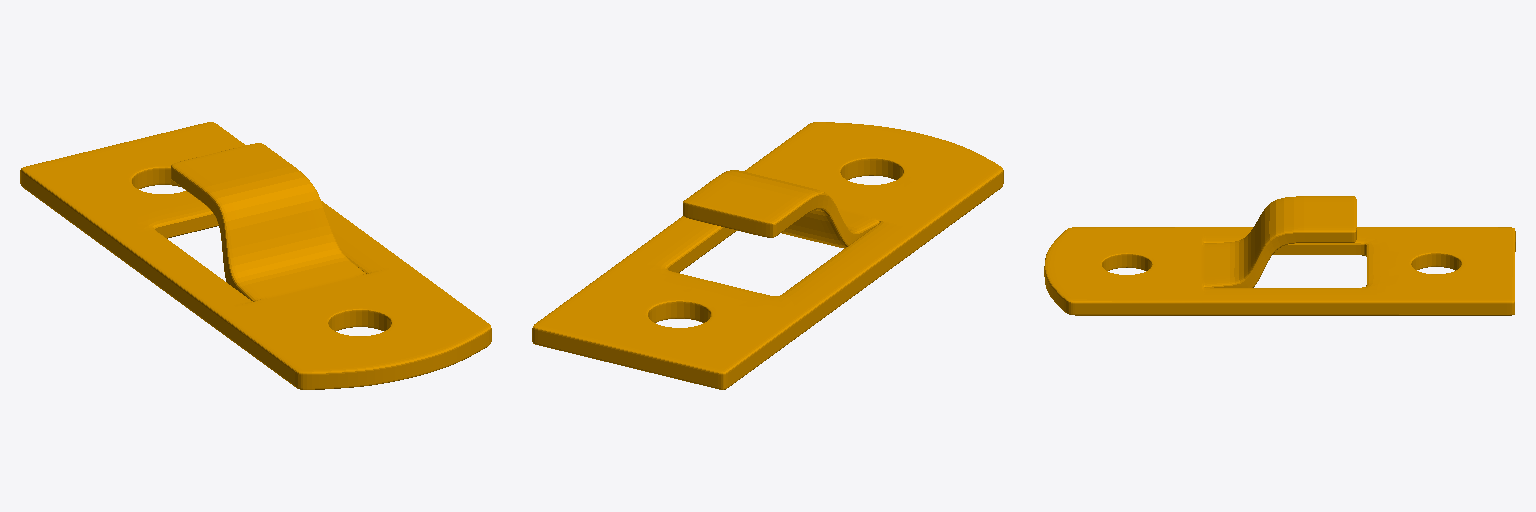
robot.urdf — metal:
<?xml version="1.0"?>
<robot name="metal">
<link name="body">
  <collision>
    <origin rpy="0 0 1.57" xyz="0.75 0 0"/>
    <geometry>
      <mesh filename="package://motion_bench_maker/configs/scenes/pregrasp/meshes/metal.stl"/>
    </geometry>
  </collision>
  <visual>
    <origin rpy="0 0 1.57" xyz="0.75 0 0"/>
    <geometry>
      <mesh filename="package://motion_bench_maker/configs/scenes/pregrasp/meshes/metal.stl"/>
    </geometry>
  </visual>
  </link>
</robot>

--- Render facts (derived) ---
3 views of the same robot in one strip: view 1: azimuth 30°, elevation 25°; view 2: azimuth 150°, elevation 25°; view 3: azimuth 270°, elevation 25° (orthographic).
Robot: metal — 1 links, 0 joints (none); root link body; default pose: every joint at zero.
Links seen in each view (by area): view 1: body; view 2: body; view 3: body.
Link boxes in pixels (x1,y1,x2,y2): body: (20, 122, 491, 389); body: (532, 122, 1003, 389); body: (1044, 196, 1515, 315).
Size in the robot's own frame: 0.2952 by 0.7784 by 0.12 metres.
1 mesh visuals loaded from 1 distinct referenced files (1 binary STL).